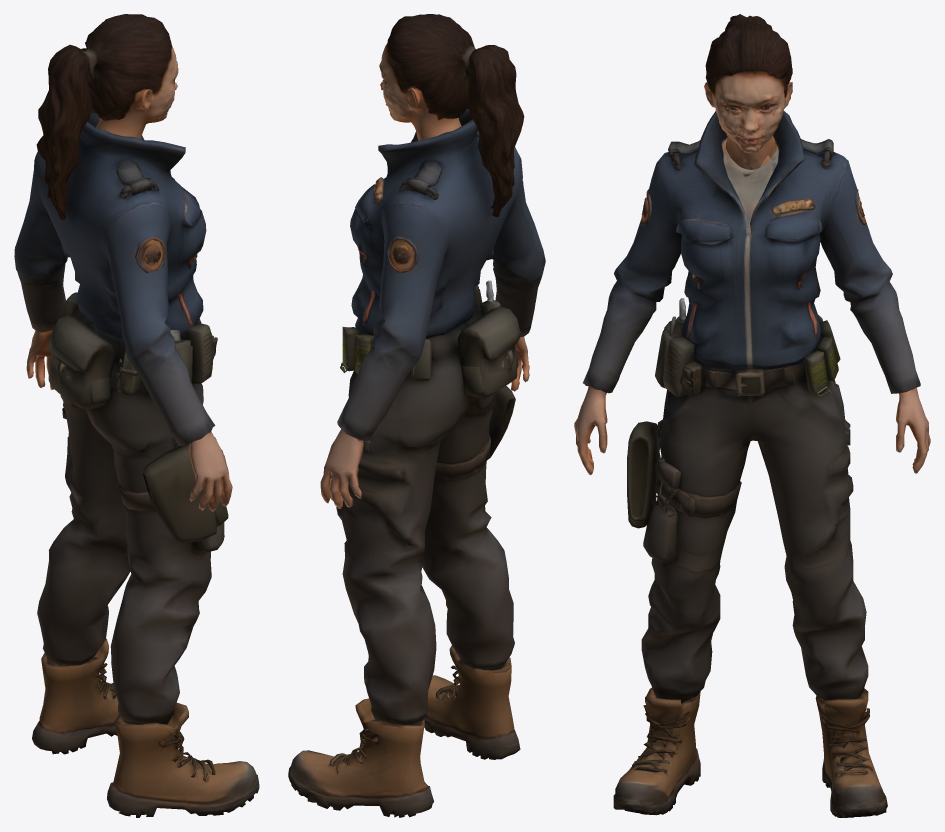
The model's file is CHR_Nadiya_Base.glb.
3 renders of one model, left to right at view 1: azimuth 30°, elevation 25°; view 2: azimuth 150°, elevation 25°; view 3: azimuth 270°, elevation 25°, orthographic.
Parts seen in each view (by area): view 1: tripo_node_472ab5aa-c6a0-4509-aa31-fca2bdc35f54; view 2: tripo_node_472ab5aa-c6a0-4509-aa31-fca2bdc35f54; view 3: tripo_node_472ab5aa-c6a0-4509-aa31-fca2bdc35f54.
Part boxes in pixels (x1,y1,x2,y2): tripo_node_472ab5aa-c6a0-4509-aa31-fca2bdc35f54: [14, 14, 259, 817]; tripo_node_472ab5aa-c6a0-4509-aa31-fca2bdc35f54: [288, 14, 545, 817]; tripo_node_472ab5aa-c6a0-4509-aa31-fca2bdc35f54: [574, 14, 930, 817].
Size of the model in its own units: 0.2363 by 0.998 by 0.4238.
Materials: 1 (1 with a texture image).
